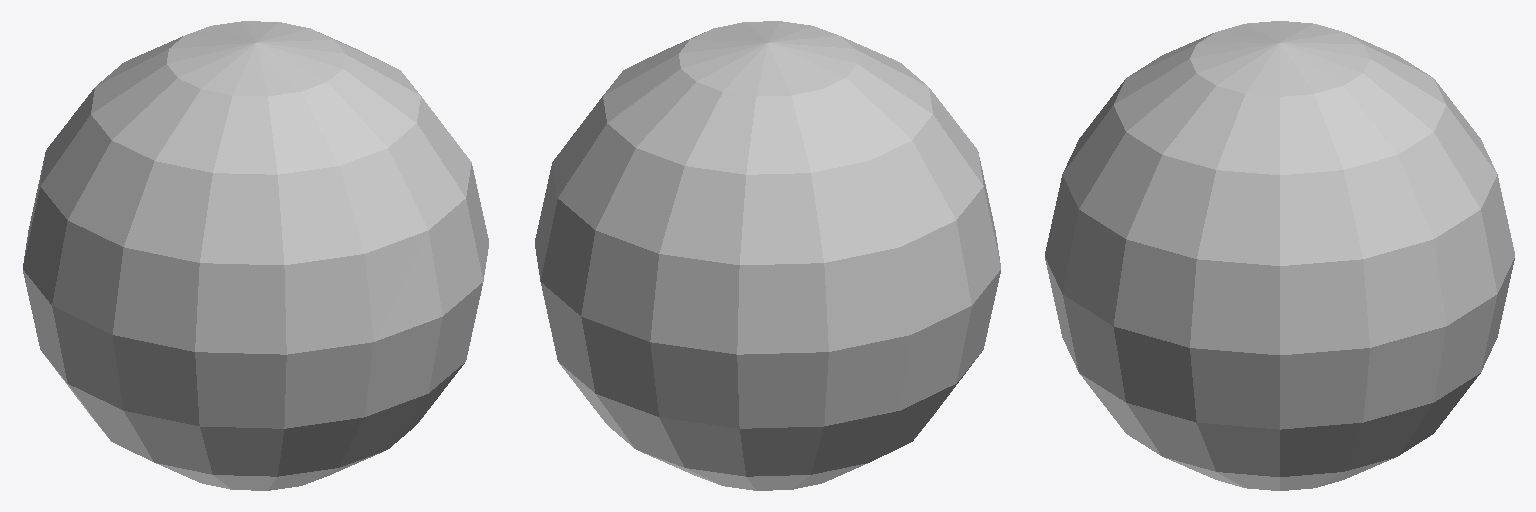
File: bola10.obj
The picture shows the model from 3 angles: view 1: azimuth 30°, elevation 25°; view 2: azimuth 150°, elevation 25°; view 3: azimuth 270°, elevation 25°; orthographic projection.
Parts seen in each view (by area): view 1: POOL_TABLE.034; view 2: POOL_TABLE.034; view 3: POOL_TABLE.034.
Part boxes in pixels (x1,y1,x2,y2): POOL_TABLE.034: (23, 21, 488, 490); POOL_TABLE.034: (535, 21, 1000, 490); POOL_TABLE.034: (1045, 21, 1514, 490).
Size of the model in its own units: 0.0585 by 0.0585 by 0.0585.